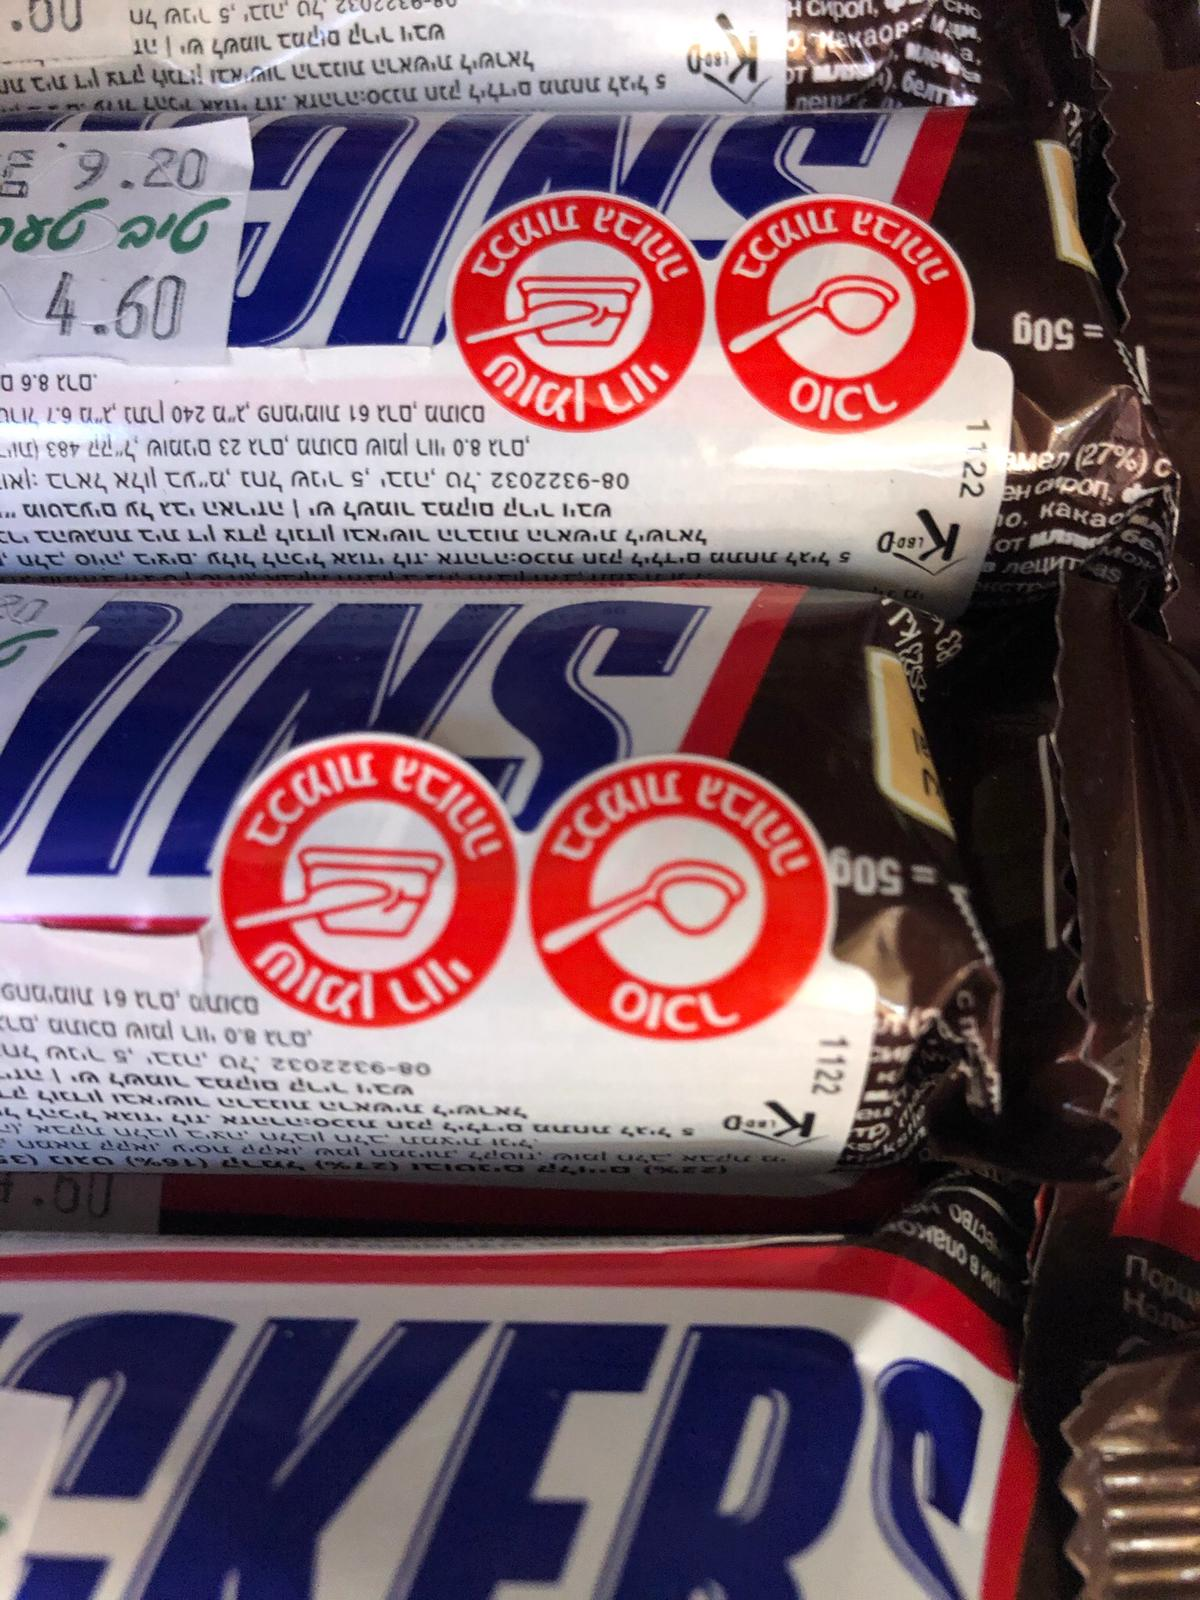fat: (216, 734, 526, 1033), (444, 191, 713, 433)
sugar: (521, 751, 839, 1048), (707, 193, 974, 436)
